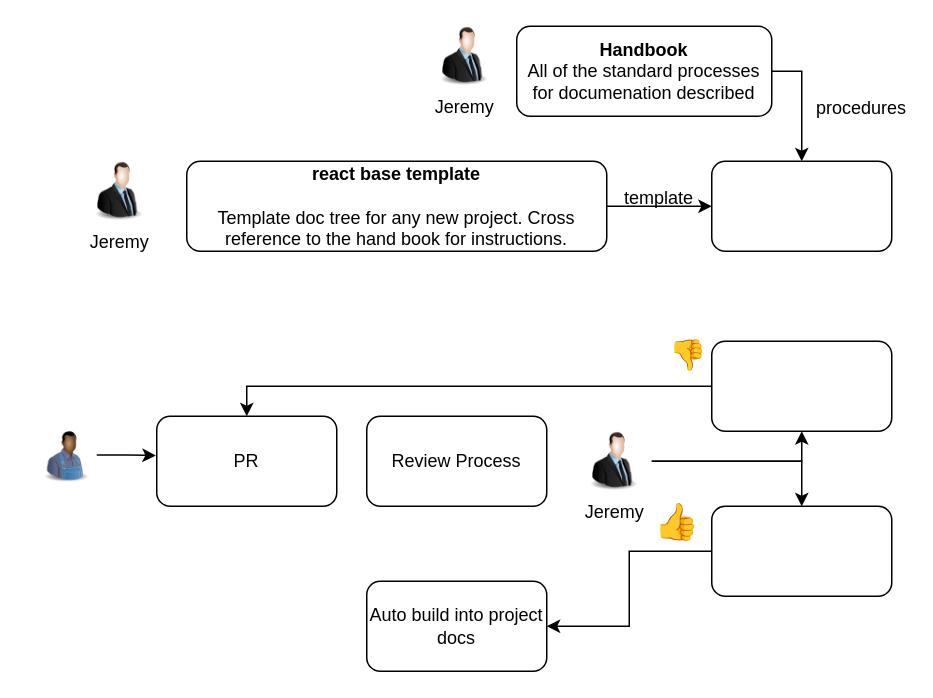
The diagram is 933 pixels wide and 698 high, and some of its shapes have lost their labels. Each missing label, with the centre of its shape:
Approve: point 801,550
Developer: point 66,454
Feedback (language, style consistency etc.): point 801,385
project: point 801,205
